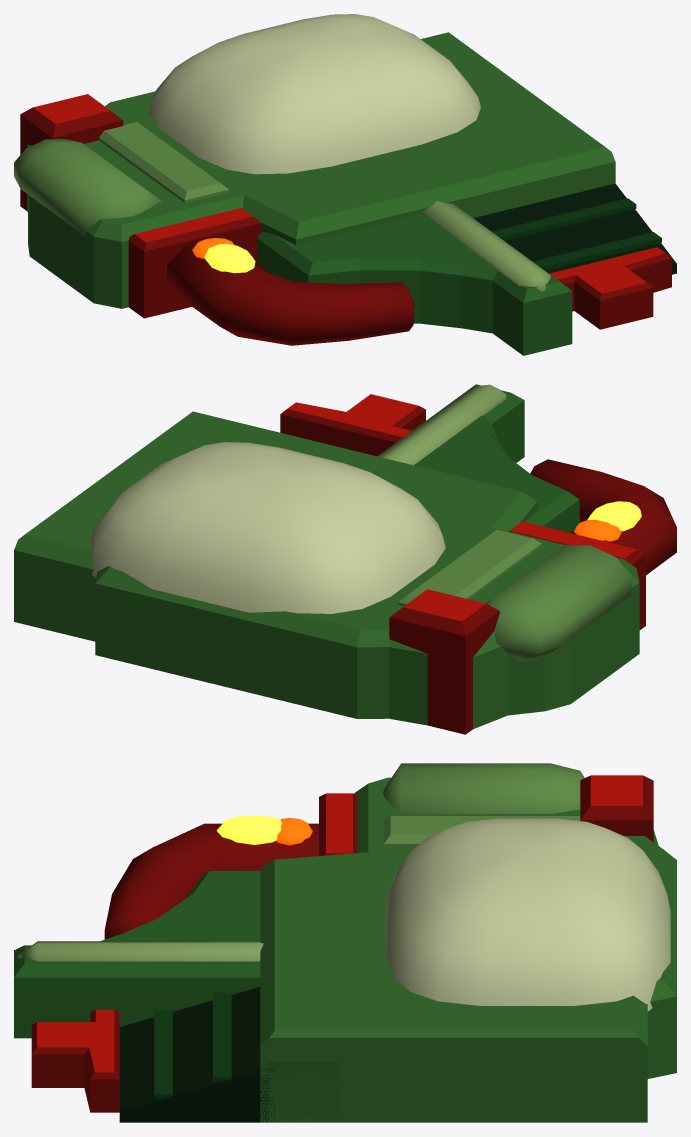
Rendered from newshj-169.glb.
3 renders of one model, top to bottom at view 1: azimuth 30°, elevation 25°; view 2: azimuth 150°, elevation 25°; view 3: azimuth 270°, elevation 25°, orthographic. The views are drawn at different scales.
Visible parts, largest first — view 1: newshj-169; view 2: newshj-169; view 3: newshj-169.
Boxes of the visible parts, left/top/right/bottom form: newshj-169: left=14, top=14, right=676, bottom=355; newshj-169: left=14, top=384, right=676, bottom=734; newshj-169: left=14, top=763, right=676, bottom=1122.
Bounding box in the file's own units: 1.76 × 0.53 × 1.88.
